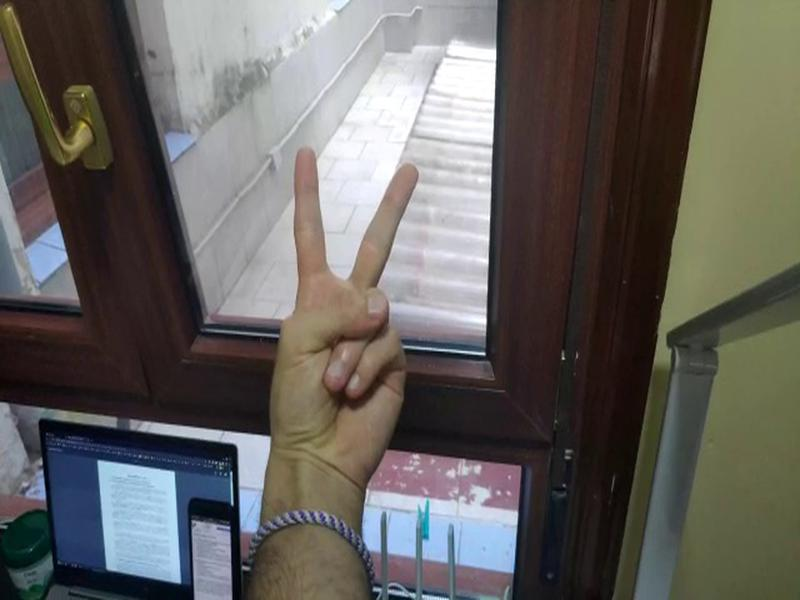Peace: (257, 135, 425, 467)
